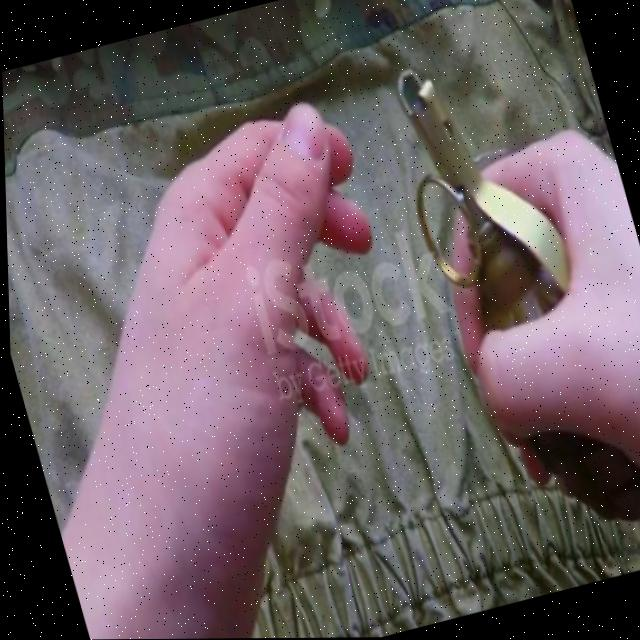grenade: (369, 33, 640, 564)
